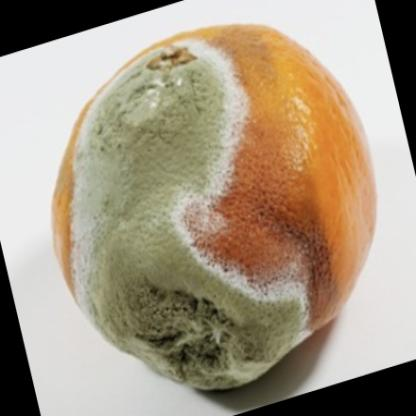rotten: (59, 26, 376, 391)
